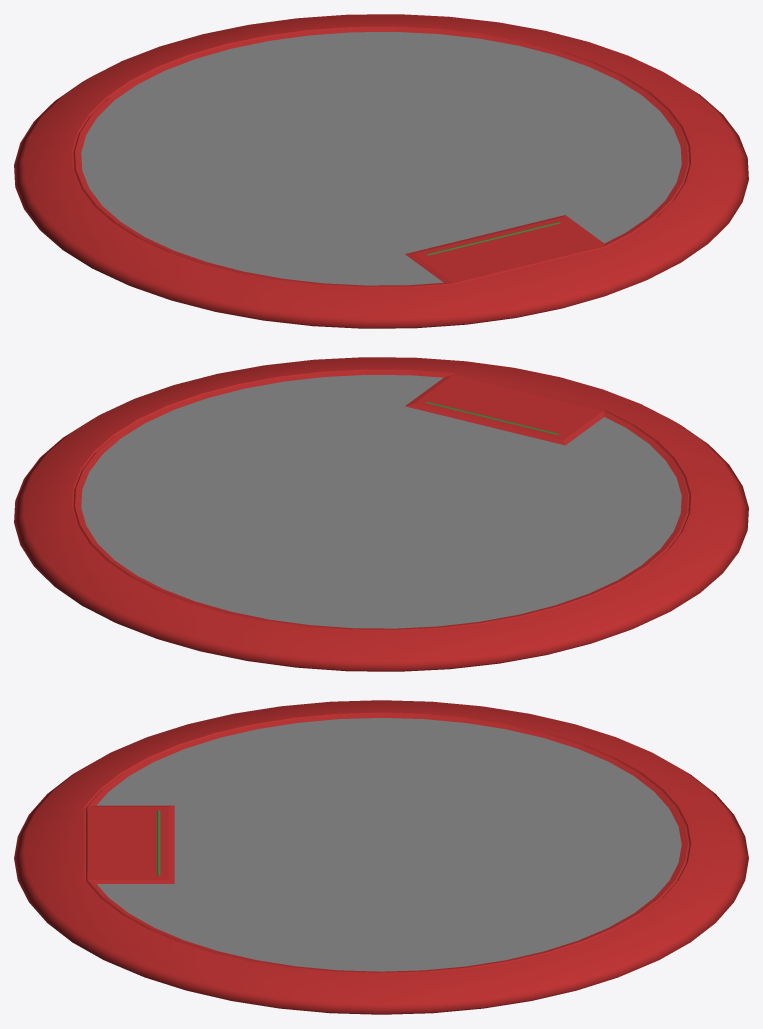
File: SM_Bodenspot_04.fbx
3 renders of one model, top to bottom at view 1: azimuth 30°, elevation 25°; view 2: azimuth 150°, elevation 25°; view 3: azimuth 270°, elevation 25°, orthographic.
Parts seen in each view (by area): view 1: SM_Bodenspot_04; view 2: SM_Bodenspot_04; view 3: SM_Bodenspot_04.
Boxes of the visible parts, bbox=[...] form: SM_Bodenspot_04: bbox=[14, 14, 748, 328]; SM_Bodenspot_04: bbox=[14, 357, 748, 671]; SM_Bodenspot_04: bbox=[14, 700, 748, 1014].
Bounding box in the file's own units: 23.5 × 0.677 × 23.5.
